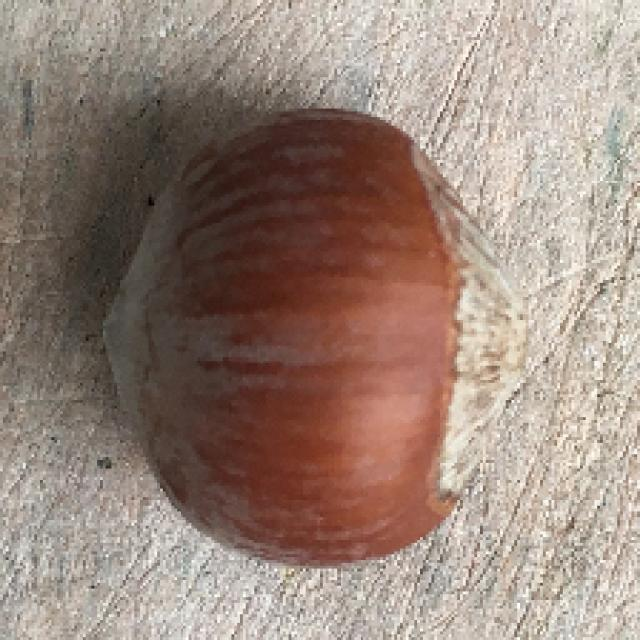QualityHazelnut: (106, 104, 526, 566)
